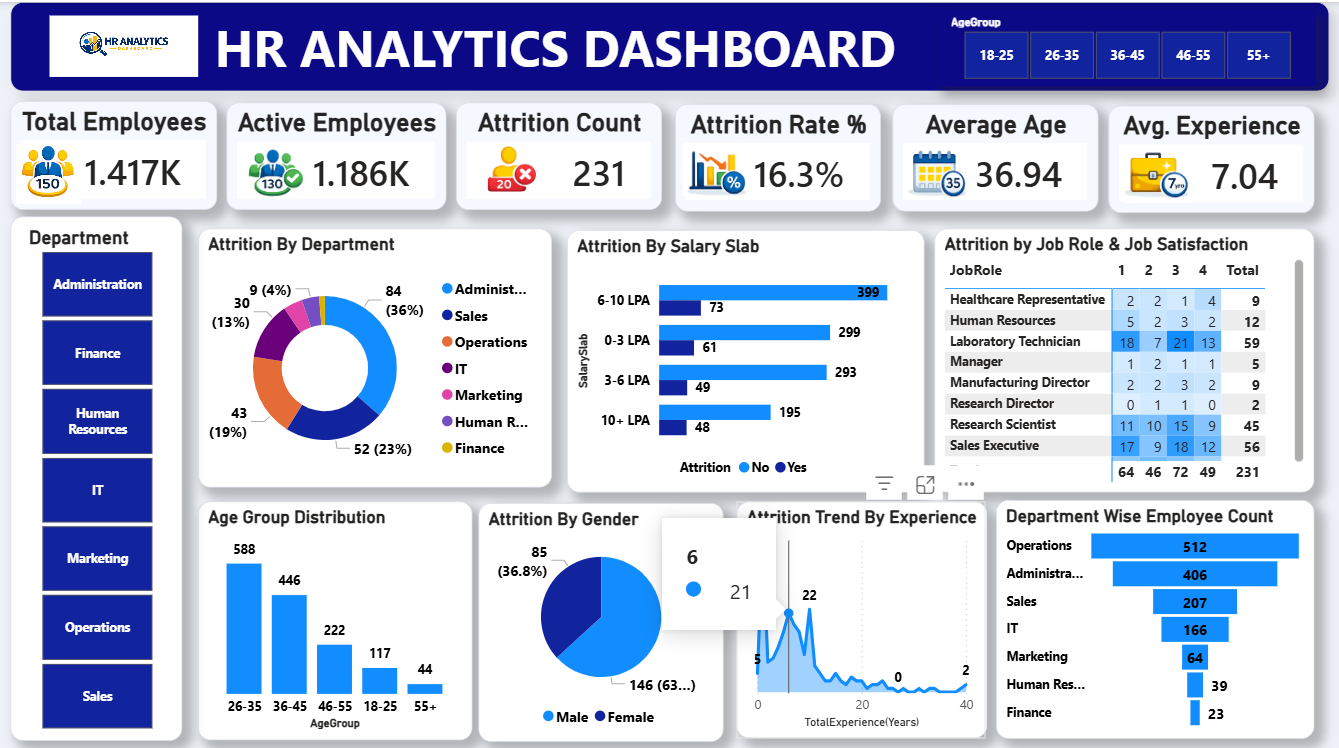

The dashboard page shown, as its layout file describes it:
{"tool":"powerbi","page":{"name":"HR Dashboard","canvas":[1280,720],"ordinal":0},"visuals":[{"type":"textbox","box":[10,0,1259,85],"z":0},{"type":"image","box":[47.3,12.9,141.8,58.7],"z":1000},{"type":"cardVisual","title":"Total Employees","fields":{"Data":["CountNonNull(HR_Analytics.EmpID)"]},"box":[10,95,197,104],"z":2000},{"type":"cardVisual","title":"Active Employees","fields":{"Data":["CountNonNull(HR_Analytics.EmployeeCount)"]},"box":[216.3,96,209.8,102.5],"z":3000},{"type":"cardVisual","title":"Attrition Count","fields":{"Data":["Sum(HR_Analytics.AttritionCount)"]},"box":[435.9,96,196.8,102.5],"z":4000},{"type":"cardVisual","title":"Attrition Rate %","fields":{"Data":["HR_Analytics.Attrition Rate %"]},"box":[644.1,97.6,196.8,102.5],"z":5000},{"type":"cardVisual","title":"Average Age","fields":{"Data":["Avg(HR_Analytics.Age)"]},"box":[852.3,97.6,196.8,102.5],"z":6000},{"type":"cardVisual","title":"Avg. Experience","fields":{"Data":["Avg(HR_Analytics.YearsatCompany)"]},"box":[1058.9,99.2,196.8,102.5],"z":7000},{"type":"image","box":[11.7,136.7,70,56.7],"z":8000},{"type":"image","box":[229.3,128.5,63.4,65.1],"z":9000},{"type":"image","box":[455.4,128.5,63.4,65.1],"z":10000},{"type":"image","box":[651.7,128.3,61.7,61.7],"z":11000},{"type":"image","box":[861.7,130,63.3,65],"z":12000},{"type":"image","box":[1075,133.3,63.3,65],"z":13000},{"type":"donutChart","title":"Attrition By Department","fields":{"Category":["HR_Analytics.Department"],"Y":["Sum(HR_Analytics.AttritionCount)"]},"box":[188.7,216.3,338.3,247.2],"z":14000},{"type":"clusteredBarChart","title":"Attrition By Salary Slab","fields":{"Category":["HR_Analytics.SalarySlab"],"Y":["CountNonNull(HR_Analytics.EmpID)"],"Series":["HR_Analytics.Attrition"]},"box":[541.6,218,341.6,250.5],"z":15000},{"type":"pivotTable","title":"Attrition by Job Role & Job Satisfaction","fields":{"Rows":["HR_Analytics.JobRole"],"Values":["Sum(HR_Analytics.AttritionCount)"],"Columns":["HR_Analytics.JobSatisfaction"]},"box":[893,216.3,362.7,252.1],"z":16000},{"type":"columnChart","title":"Age Group Distribution","fields":{"Category":["HR_Analytics.AgeGroup"],"Y":["Sum(HR_Analytics.EmployeeCount)"]},"box":[188.7,476.6,261.9,227.7],"z":17000},{"type":"pieChart","title":"Attrition By Gender","fields":{"Category":["HR_Analytics.Gender"],"Y":["Sum(HR_Analytics.AttritionCount)"]},"box":[457.1,478.2,234.2,227.7],"z":18000},{"type":"areaChart","title":"Attrition Trend  By Experience","fields":{"Category":["HR_Analytics.TotalExperience(Years)"],"Y2":["Sum(HR_Analytics.AttritionCount)"]},"box":[702.7,476.6,239.1,226.1],"z":19000},{"type":"funnel","title":"Department Wise Employee Count","fields":{"Category":["HR_Analytics.Department"],"Y":["CountNonNull(HR_Analytics.EmpID)"]},"box":[951.5,475,304.2,227.7],"z":20000},{"type":"slicer","fields":{"Values":["HR_Analytics.Department"]},"box":[9.8,204.9,164.3,501],"z":21000},{"type":"slicer","fields":{"Values":["HR_Analytics.AgeGroup"]},"box":[894.6,6.5,361.1,73.2],"z":21001}]}

Visuals, with their boxes in screenshot pixels (x1, y1, x2, y2), scaled from the page's 1280x720 canvas onto the 1339x748 screenshot:
textbox: box(10, 0, 1327, 88)
image: box(49, 13, 198, 74)
"Total Employees" cardVisual: box(10, 99, 217, 207)
"Active Employees" cardVisual: box(226, 100, 446, 206)
"Attrition Count" cardVisual: box(456, 100, 662, 206)
"Attrition Rate %" cardVisual: box(674, 101, 880, 208)
"Average Age" cardVisual: box(892, 101, 1097, 208)
"Avg. Experience" cardVisual: box(1108, 103, 1314, 210)
image: box(12, 142, 85, 201)
image: box(240, 133, 306, 201)
image: box(476, 133, 543, 201)
image: box(682, 133, 746, 197)
image: box(901, 135, 968, 203)
image: box(1125, 138, 1191, 206)
"Attrition By Department" donutChart: box(197, 225, 551, 482)
"Attrition By Salary Slab" clusteredBarChart: box(567, 226, 924, 487)
"Attrition by Job Role & Job Satisfaction" pivotTable: box(934, 225, 1314, 487)
"Age Group Distribution" columnChart: box(197, 495, 471, 732)
"Attrition By Gender" pieChart: box(478, 497, 723, 733)
"Attrition Trend  By Experience" areaChart: box(735, 495, 985, 730)
"Department Wise Employee Count" funnel: box(995, 493, 1314, 730)
slicer - HR_Analytics.Department: box(10, 213, 182, 733)
slicer - HR_Analytics.AgeGroup: box(936, 7, 1314, 83)
